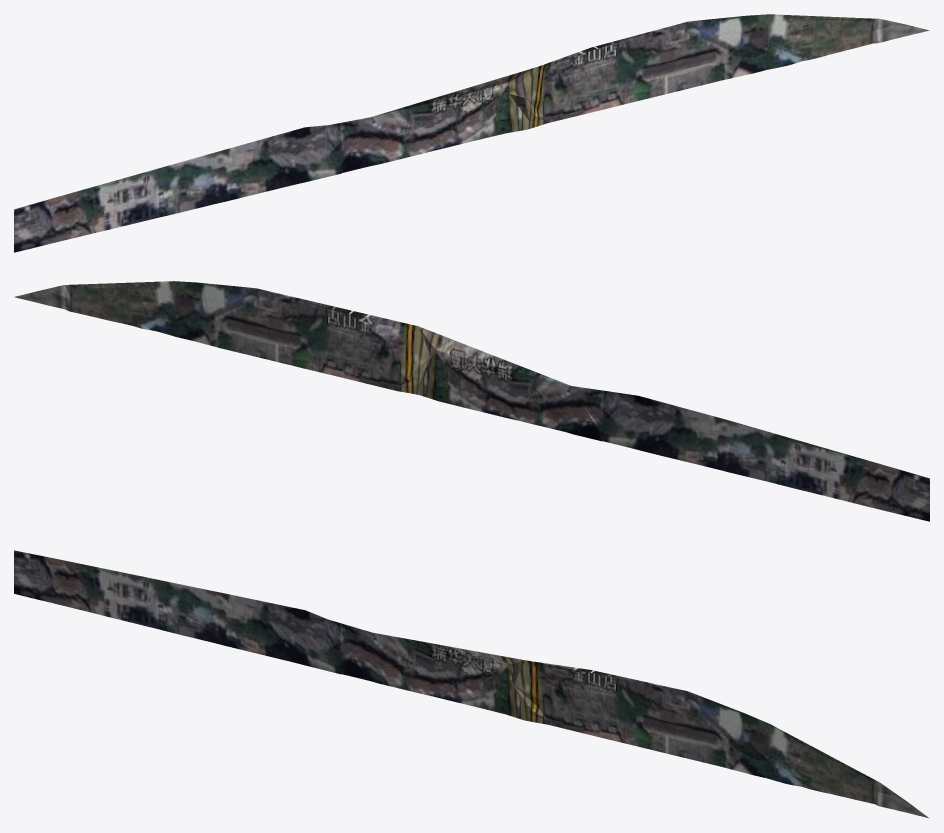
The picture shows the model from 3 angles, top to bottom: view 1: azimuth 30°, elevation 25°; view 2: azimuth 150°, elevation 25°; view 3: azimuth 330°, elevation 25°; orthographic projection.
Visible parts, largest first — view 1: 0_1_2_0_1; view 2: 0_1_2_0_1; view 3: 0_1_2_0_1.
Part boxes in pixels (bbox=[...]): 0_1_2_0_1: bbox=[14, 14, 929, 252]; 0_1_2_0_1: bbox=[14, 281, 929, 521]; 0_1_2_0_1: bbox=[14, 550, 928, 817].
Bounding box in the file's own units: 773 × 54.78 × 9.65.
Materials: 1 (1 with a texture image).
